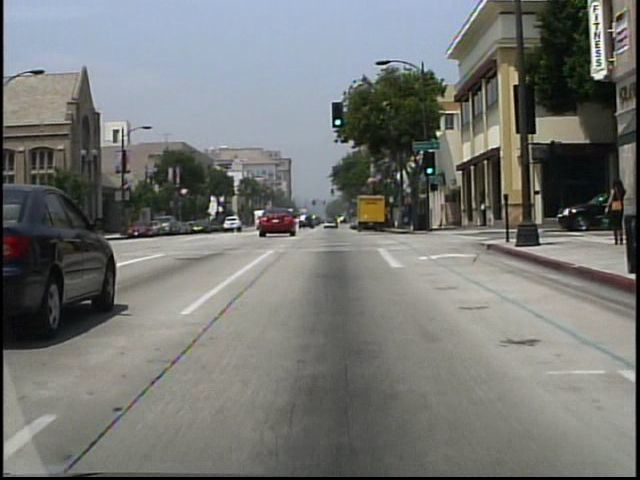person: (603, 177, 624, 248), (478, 198, 488, 230)
